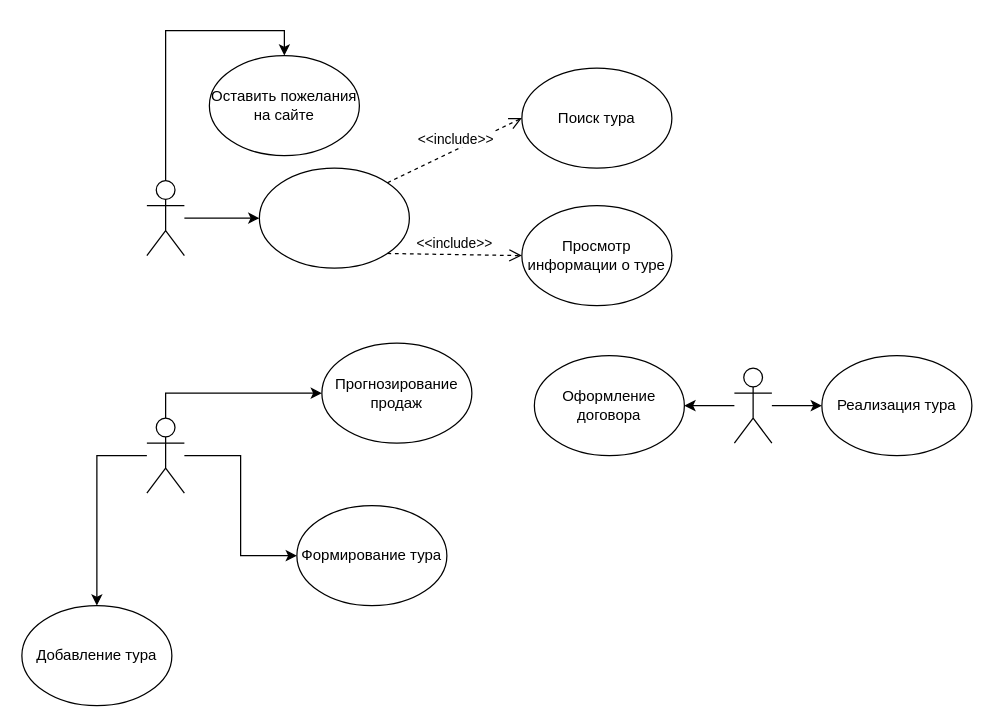
Image size: 994x728. Some labels were removed from this diagram. Here are the shapes that lost their labels. From the top down, the centre of each, then its label:
At point (165, 217): "Клиент".
At point (333, 217): "Бронирование тура".
At point (752, 405): "Турагент".
At point (165, 455): "Туроператор".
